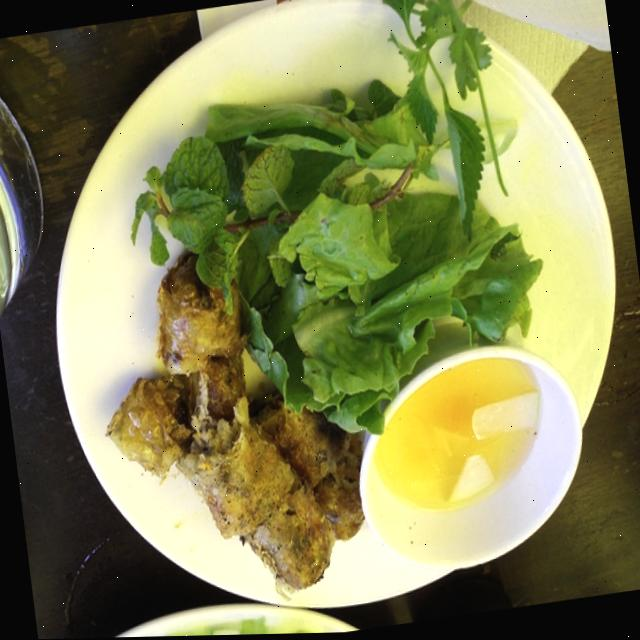炸货点心: (41, 0, 640, 639)
